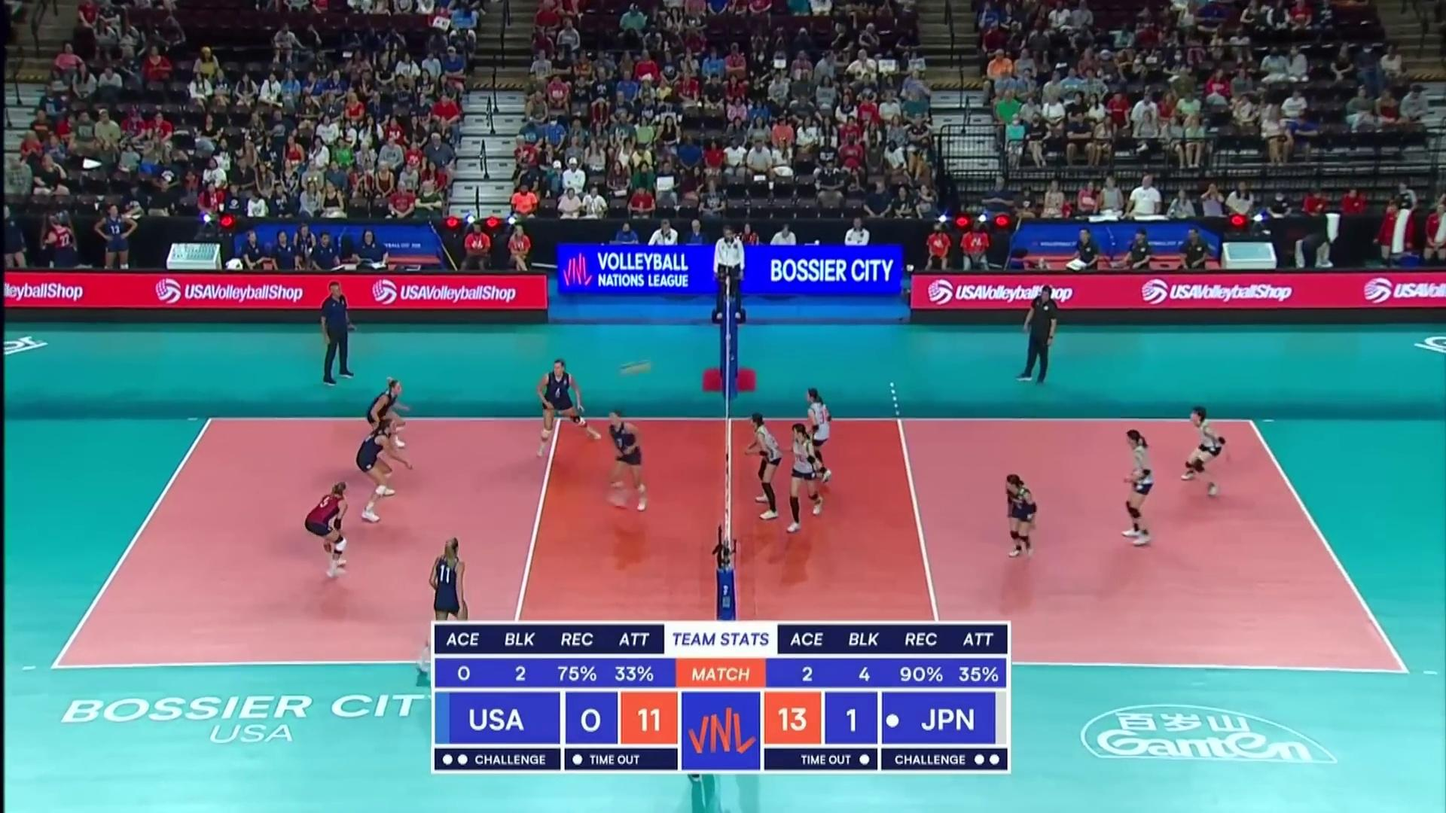player: (417, 535, 473, 673), (535, 360, 602, 454), (779, 422, 825, 534), (305, 481, 356, 579), (358, 418, 405, 523), (602, 409, 649, 512), (1182, 406, 1228, 496), (748, 413, 782, 524), (1122, 430, 1153, 546), (800, 387, 837, 479), (364, 378, 410, 448), (1000, 475, 1040, 555)
refree: (712, 224, 746, 321)
